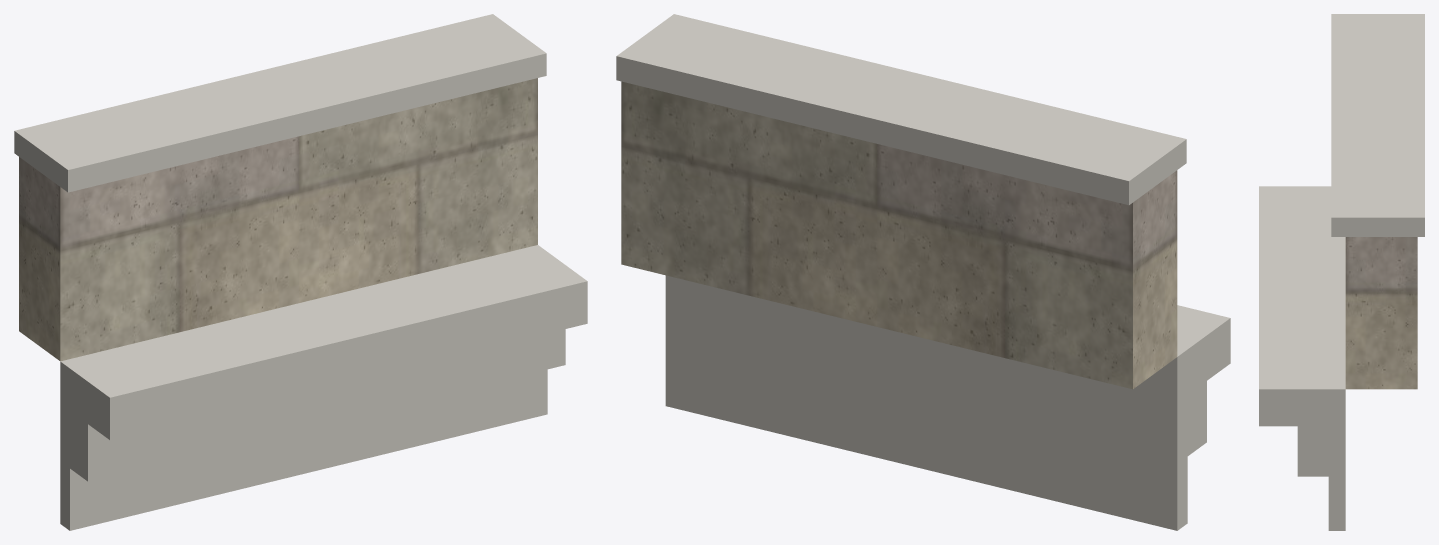
The model's file is cornice_stone.glb.
The picture shows the model from 3 angles, left to right: view 1: azimuth 30°, elevation 25°; view 2: azimuth 150°, elevation 25°; view 3: azimuth 270°, elevation 25°; orthographic projection. The views are drawn at different scales.
Visible parts, largest first — view 1: cornice_stone_lime, cornice_stone_grey; view 2: cornice_stone_lime, cornice_stone_grey; view 3: cornice_stone_lime, cornice_stone_grey.
Part boxes in pixels (bbox=[...]): cornice_stone_lime: bbox=[14, 14, 587, 530]; cornice_stone_grey: bbox=[19, 78, 537, 361]; cornice_stone_lime: bbox=[616, 14, 1230, 530]; cornice_stone_grey: bbox=[621, 81, 1177, 389]; cornice_stone_lime: bbox=[1259, 14, 1424, 530]; cornice_stone_grey: bbox=[1345, 237, 1417, 389].
Size of the model in its own units: 2 by 1.44 by 0.69.
2 materials, 1 textured.
